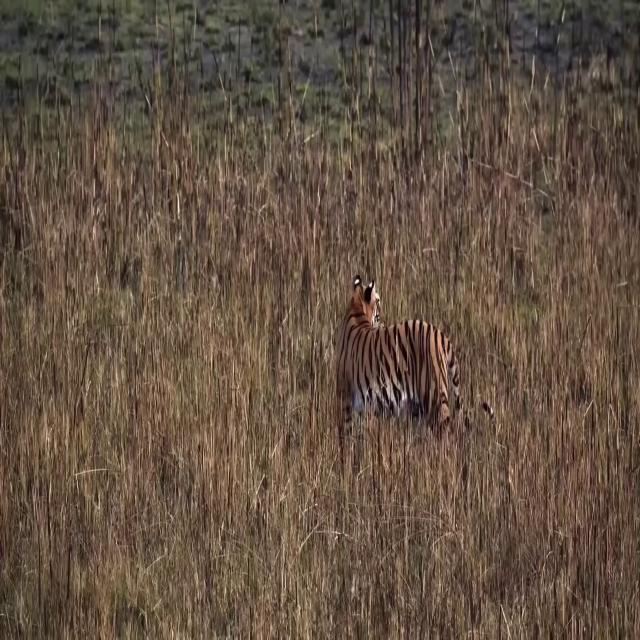tiger: (334, 274, 498, 486)
